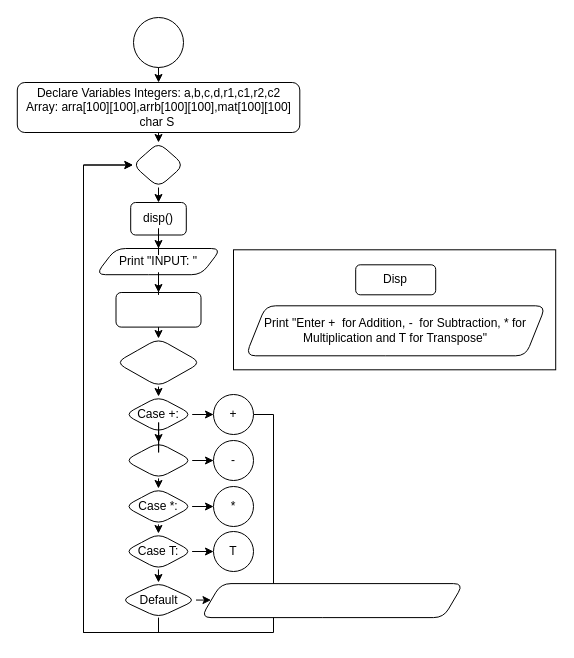
The diagram is 574 pixels wide and 658 high, and some of its shapes have lost their labels. The centre of each missing label's shape, as x and y in pixels:
Case -:: [158,460]
Print "Please Choose the Operation among +,-,*,T": [332,600]
Start: [158,42]
Switch S: [158,362]
Take input for S: [158,309]
While: [158,165]
